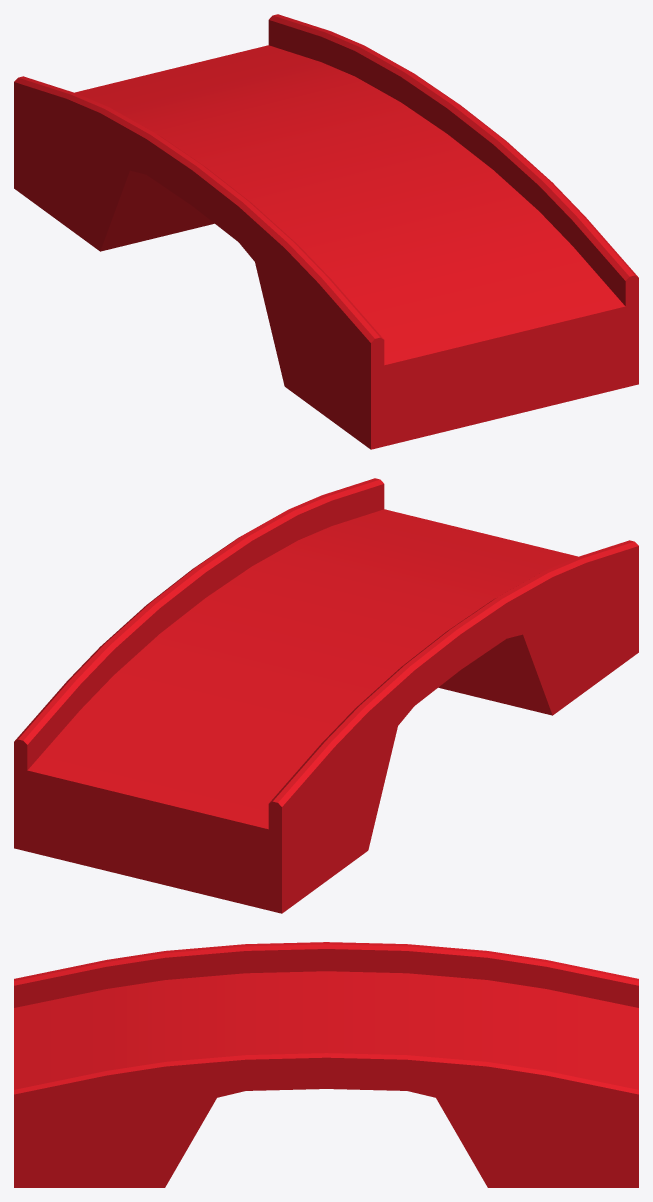
The model's file is Brug_V1.fbx.
3 views of the same model, one above another, from view 1: azimuth 30°, elevation 25°; view 2: azimuth 150°, elevation 25°; view 3: azimuth 270°, elevation 25° (orthographic). The views are drawn at different scales.
Parts seen in each view (by area): view 1: Brug_01; view 2: Brug_01; view 3: Brug_01.
Part boxes in pixels (bbox=[...]): Brug_01: bbox=[14, 14, 638, 449]; Brug_01: bbox=[14, 478, 638, 913]; Brug_01: bbox=[14, 942, 638, 1187].
Bounding box in the file's own units: 1046 × 566 × 2411.
